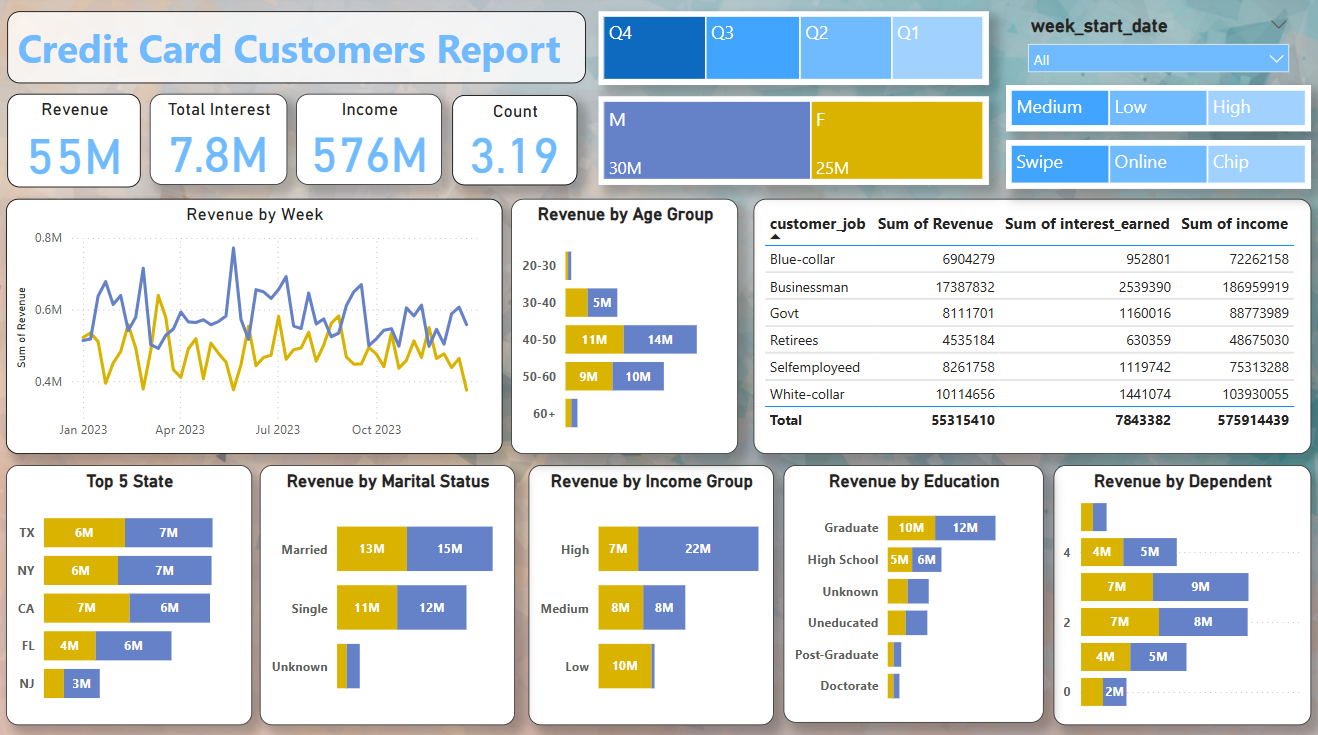

The page's visual inventory and layout, read from the dashboard file:
{"tool":"powerbi","page":{"name":"CC Customers","canvas":[1280,720],"ordinal":1},"visuals":[{"type":"textbox","box":[10.9,15.7,558.6,70],"z":0},{"type":"barChart","title":"Revenue by Income Group","fields":{"Y":["Sum(public cc_detail.Revenue)"],"Category":["public cust_detail.IncomeGroup"],"Series":["public cust_detail.gender"]},"box":[513.9,453.6,236.5,250.9],"z":1},{"type":"tableEx","fields":{"Values":["public cust_detail.customer_job","Sum(public cc_detail.Revenue)","Sum(public cc_detail.interest_earned)","Sum(public cust_detail.income)"]},"box":[731.1,196.6,538.1,246.1],"z":2},{"type":"card","title":"Revenue","fields":{"Values":["Sum(public cc_detail.Revenue)"]},"box":[10.9,95.3,129.1,90.5],"z":3},{"type":"card","title":"Total Interest","fields":{"Values":["Sum(public cc_detail.interest_earned)"]},"box":[148.4,95.3,132.7,88.1],"z":4},{"type":"card","title":"Income","fields":{"Values":["Sum(public cust_detail.income)"]},"box":[289.5,95.3,141.2,88.1],"z":5},{"type":"card","title":"Count","fields":{"Values":["Avg(public cust_detail.cust_satisfaction_score)"]},"box":[440.4,96.5,120.6,86.9],"z":6},{"type":"slicer","fields":{"Values":["public cc_detail.week_start_date"]},"box":[985.7,14.5,272.7,71.2],"z":7},{"type":"treemap","fields":{"Group":["public cc_detail.qtr"],"Values":["Avg(public cc_detail.client_num)"]},"box":[581.5,15.7,376.4,71.2],"z":8},{"type":"treemap","fields":{"Group":["public cust_detail.IncomeGroup"],"Values":["Avg(public cc_detail.client_num)"]},"box":[974.8,86.9,294.4,44.6],"z":9},{"type":"treemap","fields":{"Group":["public cust_detail.gender"],"Values":["Sum(public cc_detail.Revenue)"]},"box":[581.5,97.7,376.4,85.7],"z":10},{"type":"lineChart","title":"Revenue by Week","fields":{"Y":["Sum(public cc_detail.Revenue)"],"Series":["public cust_detail.gender"],"Category":["public cc_detail.week_start_date.Variation.Date Hierarchy.Year","public cc_detail.week_start_date.Variation.Date Hierarchy.Quarter","public cc_detail.week_start_date.Variation.Date Hierarchy.Month","public cc_detail.week_start_date.Variation.Date Hierarchy.Day"]},"box":[9.7,196.6,479,246.1],"z":11},{"type":"barChart","title":"Revenue by Age Group","fields":{"Y":["Sum(public cc_detail.Revenue)"],"Category":["public cust_detail.AgeGroup"],"Series":["public cust_detail.gender"]},"box":[497.1,196.6,219.6,246.1],"z":12},{"type":"barChart","title":"Revenue by Dependent","fields":{"Y":["Sum(public cc_detail.Revenue)"],"Category":["public cust_detail.dependent_count"],"Series":["public cust_detail.gender"]},"box":[1020.6,453.6,248.5,250.9],"z":13},{"type":"barChart","title":"Revenue by Education","fields":{"Y":["Sum(public cc_detail.Revenue)"],"Category":["public cust_detail.education_level"],"Series":["public cust_detail.gender"]},"box":[760.1,453.6,250.9,248.5],"z":14},{"type":"barChart","title":"Top 5 State","fields":{"Y":["Sum(public cc_detail.Revenue)"],"Series":["public cust_detail.gender"],"Category":["public cust_detail.state_cd"]},"box":[9.7,453.6,237.7,250.9],"z":15},{"type":"barChart","title":"Revenue by Marital Status","fields":{"Y":["Sum(public cc_detail.Revenue)"],"Category":["public cust_detail.marital_status"],"Series":["public cust_detail.gender"]},"box":[254.6,453.6,246.1,250.9],"z":16},{"type":"treemap","fields":{"Group":["public cc_detail.use_chip"],"Values":["Avg(public cc_detail.client_num)"]},"box":[974.8,139.9,294.4,47.1],"z":18}]}

Visuals, with their boxes in screenshot pixels (x1, y1, x2, y2), scaled from the page's 1280x720 canvas onto the 1318x735 screenshot:
textbox: [x1=11, y1=16, x2=586, y2=87]
"Revenue by Income Group" barChart: [x1=529, y1=463, x2=773, y2=719]
tableEx - public cust_detail.customer_job x Sum(public cc_detail.Revenue): [x1=753, y1=201, x2=1307, y2=452]
"Revenue" card: [x1=11, y1=97, x2=144, y2=190]
"Total Interest" card: [x1=153, y1=97, x2=289, y2=187]
"Income" card: [x1=298, y1=97, x2=443, y2=187]
"Count" card: [x1=453, y1=99, x2=578, y2=187]
slicer - public cc_detail.week_start_date: [x1=1015, y1=15, x2=1296, y2=87]
treemap - public cc_detail.qtr x Avg(public cc_detail.client_num): [x1=599, y1=16, x2=986, y2=89]
treemap - public cust_detail.IncomeGroup x Avg(public cc_detail.client_num): [x1=1004, y1=89, x2=1307, y2=134]
treemap - public cust_detail.gender x Sum(public cc_detail.Revenue): [x1=599, y1=100, x2=986, y2=187]
"Revenue by Week" lineChart: [x1=10, y1=201, x2=503, y2=452]
"Revenue by Age Group" barChart: [x1=512, y1=201, x2=738, y2=452]
"Revenue by Dependent" barChart: [x1=1051, y1=463, x2=1307, y2=719]
"Revenue by Education" barChart: [x1=783, y1=463, x2=1041, y2=717]
"Top 5 State" barChart: [x1=10, y1=463, x2=255, y2=719]
"Revenue by Marital Status" barChart: [x1=262, y1=463, x2=516, y2=719]
treemap - public cc_detail.use_chip x Avg(public cc_detail.client_num): [x1=1004, y1=143, x2=1307, y2=191]
